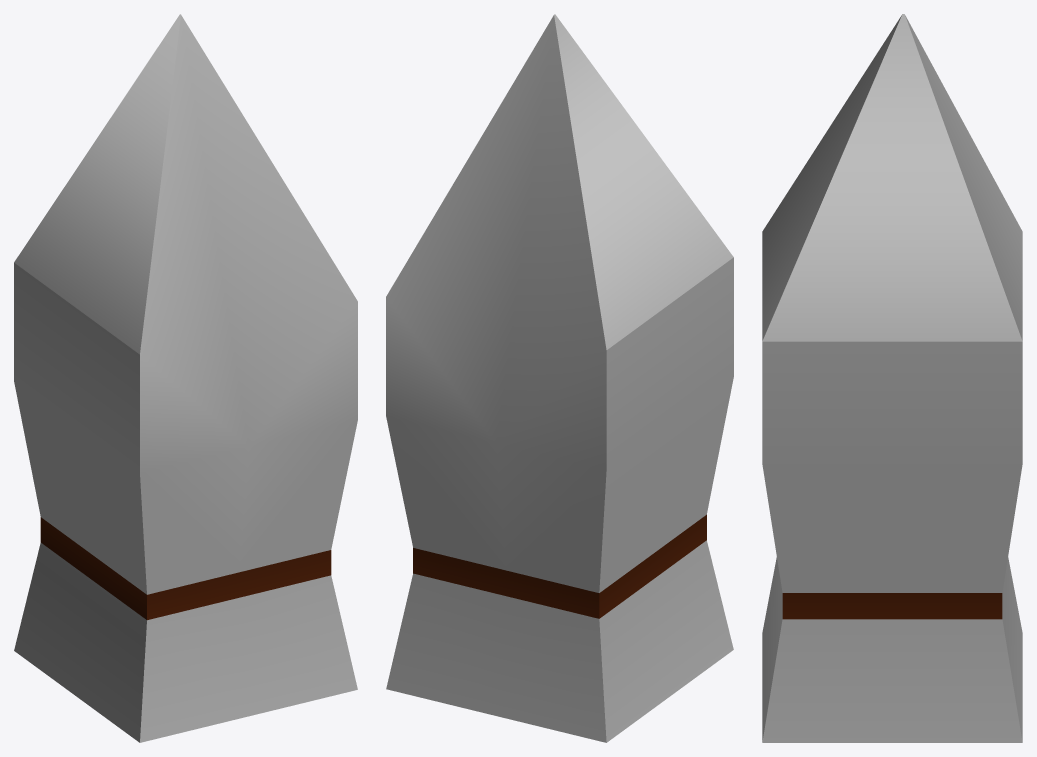
File: test if pass.FBX
3 views of the same model, side by side, from view 1: azimuth 30°, elevation 25°; view 2: azimuth 150°, elevation 25°; view 3: azimuth 270°, elevation 25° (orthographic). The views are drawn at different scales.
Parts seen in each view (by area): view 1: Box003; view 2: Box003; view 3: Box003.
Part boxes in pixels (x1,y1,x2,y2): Box003: (14,14,357,742); Box003: (386,14,733,742); Box003: (762,14,1022,742).
Bounding box in the file's own units: 7 × 20 × 7.
